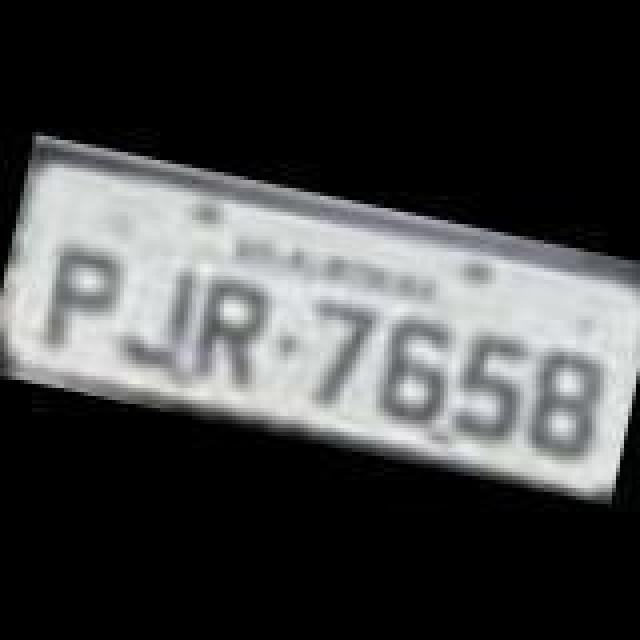5: (446, 322, 530, 446)
6: (366, 308, 458, 428)
7: (286, 288, 386, 416)
8: (524, 338, 612, 462)
J: (118, 256, 202, 376)
P: (32, 240, 128, 360)
R: (184, 272, 280, 392)
